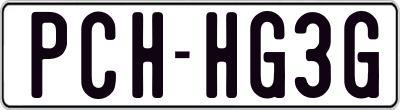3: (295, 9, 332, 95)
C: (80, 9, 121, 96)
G: (250, 8, 291, 95), (342, 11, 380, 100)
H: (131, 10, 168, 97), (205, 9, 241, 98)
P: (29, 12, 68, 100)
